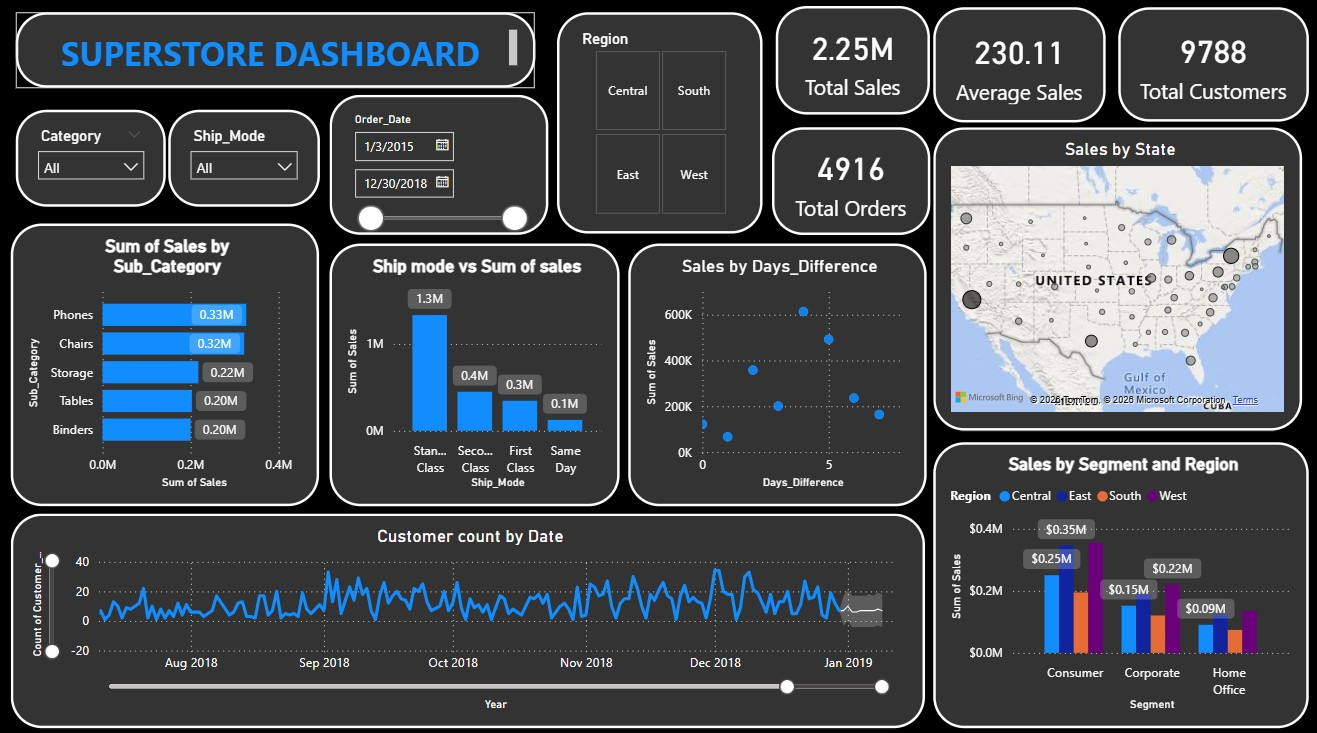

The dashboard page shown, as its layout file describes it:
{"tool":"powerbi","page":{"name":"Dashboard","canvas":[1280,720],"ordinal":12},"visuals":[{"type":"columnChart","title":"Ship mode vs Sum of sales ","fields":{"Category":["superstore_db superstore.Ship_Mode"],"Y":["Sum(superstore_db superstore.Sales)"]},"box":[321.2,238.8,280,253.8],"z":0},{"type":"barChart","title":"Sum of Sales by Sub_Category","fields":{"Y":["Sum(superstore_db superstore.Sales)"],"Category":["superstore_db superstore.Sub_Category"]},"box":[13.8,220,297.5,272.5],"z":1000},{"type":"lineChart","title":"Customer count by Date","fields":{"Y":["CountNonNull(superstore_db superstore.Customer_ID)"],"Category":["superstore_db superstore.Order_Date.Variation.Date Hierarchy.Year","superstore_db superstore.Order_Date.Variation.Date Hierarchy.Quarter","superstore_db superstore.Order_Date.Variation.Date Hierarchy.Month","superstore_db superstore.Order_Date.Variation.Date Hierarchy.Day"]},"box":[13.8,500,882.5,207.5],"z":2000},{"type":"map","title":"Sales by State","fields":{"Category":["superstore_db superstore.Country Hierarchy.State","superstore_db superstore.Country Hierarchy.City"],"Size":["Sum(superstore_db superstore.Sales)"]},"box":[903.8,126.2,356.2,292.5],"z":3000},{"type":"clusteredColumnChart","title":"Sales by Segment and Region ","fields":{"Y":["Sum(superstore_db superstore.Sales)"],"Category":["superstore_db superstore.Segment"],"Series":["superstore_db superstore.Country Hierarchy.Region"]},"box":[903.8,431.2,362.5,276.2],"z":4000},{"type":"slicer","fields":{"Values":["superstore_db superstore.Order_Date"]},"box":[321.2,95,211.2,135],"z":5000},{"type":"card","fields":{"Values":["_Measures.Total Customers"]},"box":[1082.5,11.2,183.8,110],"z":6000},{"type":"textbox","box":[17.5,16.2,501.2,72.5],"z":7000},{"type":"card","fields":{"Values":["_Measures.Total Sales"]},"box":[751.2,10,148.8,105],"z":8000},{"type":"card","fields":{"Values":["_Measures.Average Sales"]},"box":[903.8,11.2,166.2,111.2],"z":9000},{"type":"card","fields":{"Values":["_Measures.Total Orders"]},"box":[747.5,126.2,152.5,103.8],"z":10000},{"type":"slicer","fields":{"Values":["superstore_db superstore.Category"]},"box":[17.5,110,145,93.8],"z":11000},{"type":"slicer","fields":{"Values":["superstore_db superstore.Ship_Mode"]},"box":[165,110,146.2,93.8],"z":12000},{"type":"slicer","fields":{"Values":["superstore_db superstore.Country Hierarchy.Region"]},"box":[540,16.2,198.8,213.8],"z":13000},{"type":"scatterChart","title":"Sales by Days_Difference","fields":{"Y":["Sum(superstore_db superstore.Sales)"],"X":["superstore_db superstore.Days_Difference"]},"box":[608.9,238.9,287.8,253.3],"z":14000}]}

Visuals, with their boxes in screenshot pixels (x1, y1, x2, y2), scaled from the page's 1280x720 canvas onto the 1317x733 screenshot:
"Ship mode vs Sum of sales " columnChart: box(330, 243, 619, 501)
"Sum of Sales by Sub_Category" barChart: box(14, 224, 320, 501)
"Customer count by Date" lineChart: box(14, 509, 922, 720)
"Sales by State" map: box(930, 128, 1296, 426)
"Sales by Segment and Region " clusteredColumnChart: box(930, 439, 1303, 720)
slicer - superstore_db superstore.Order_Date: box(330, 97, 548, 234)
card - _Measures.Total Customers: box(1114, 11, 1303, 123)
textbox: box(18, 16, 534, 90)
card - _Measures.Total Sales: box(773, 10, 926, 117)
card - _Measures.Average Sales: box(930, 11, 1101, 125)
card - _Measures.Total Orders: box(769, 128, 926, 234)
slicer - superstore_db superstore.Category: box(18, 112, 167, 207)
slicer - superstore_db superstore.Ship_Mode: box(170, 112, 320, 207)
slicer - superstore_db superstore.Country Hierarchy.Region: box(556, 16, 760, 234)
"Sales by Days_Difference" scatterChart: box(627, 243, 923, 501)
